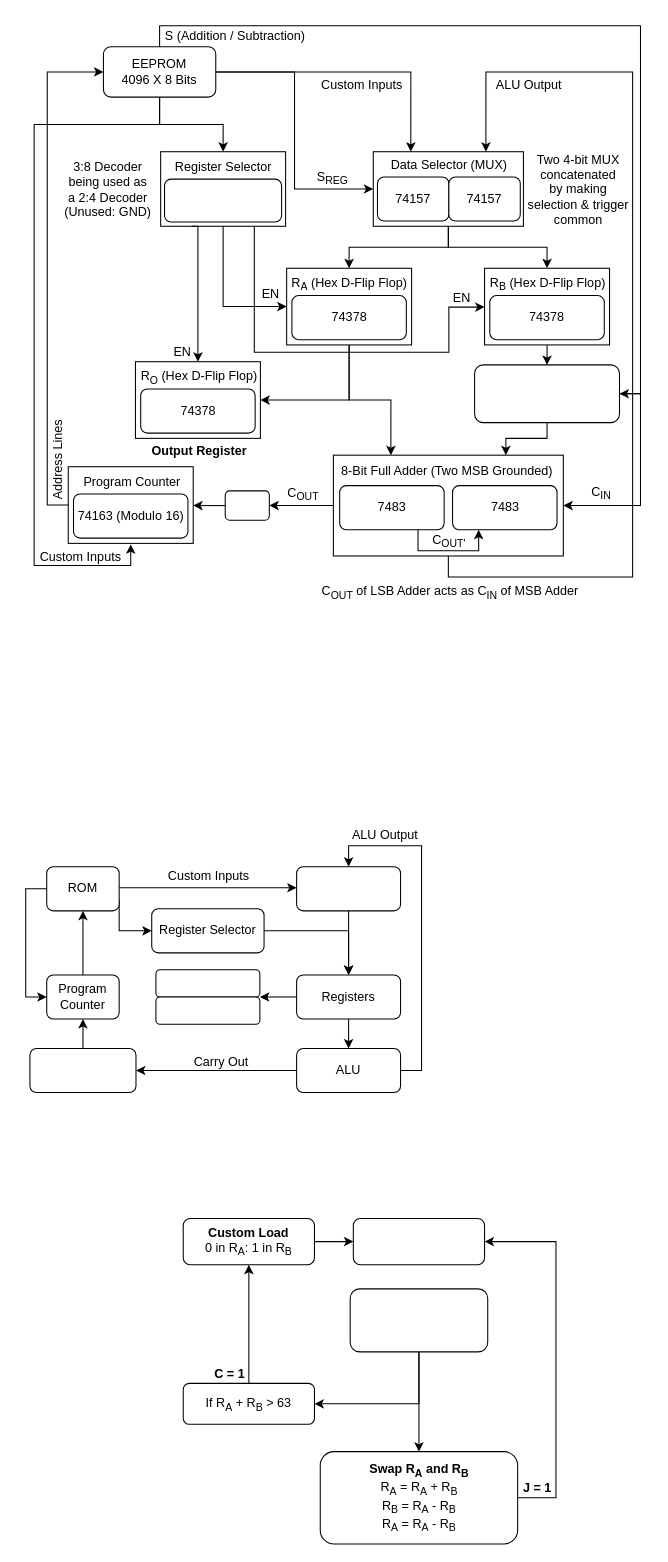
Some shapes in this 668 by 1562 pixel diagram are drawn without their labels. The shapes that lost their labels are listed below. From the top down, each one's centre as x and y in pixels, then its label:
the point at 222,200: 74138 (3:8 Decoder)
the point at 547,393: XOR Bridge Produces 1's Complement of R B
the point at 246,505: JUMP
the point at 348,888: Data Selector
the point at 207,983: Output
the point at 207,1010: 7SEG Displays
the point at 82,1070: Overflow/Jump
the point at 418,1241: Output Push R A into R O
the point at 418,1320: Addition Add R A and R B : Store Results in R B
